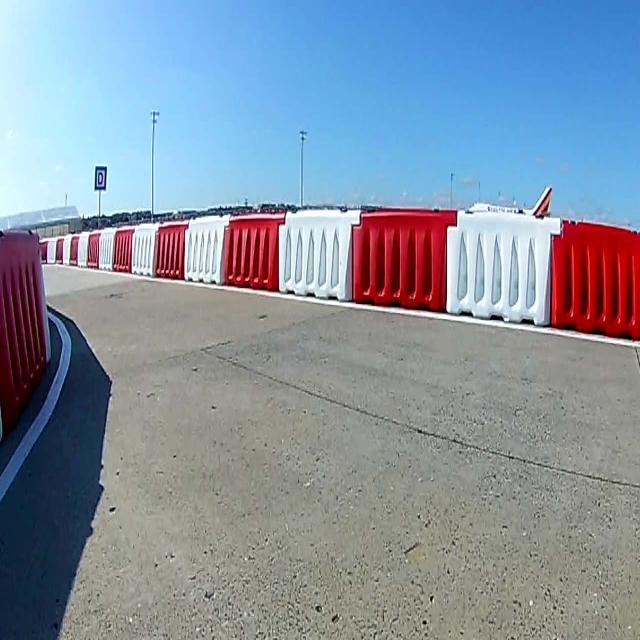durak: (96, 167, 106, 190)
